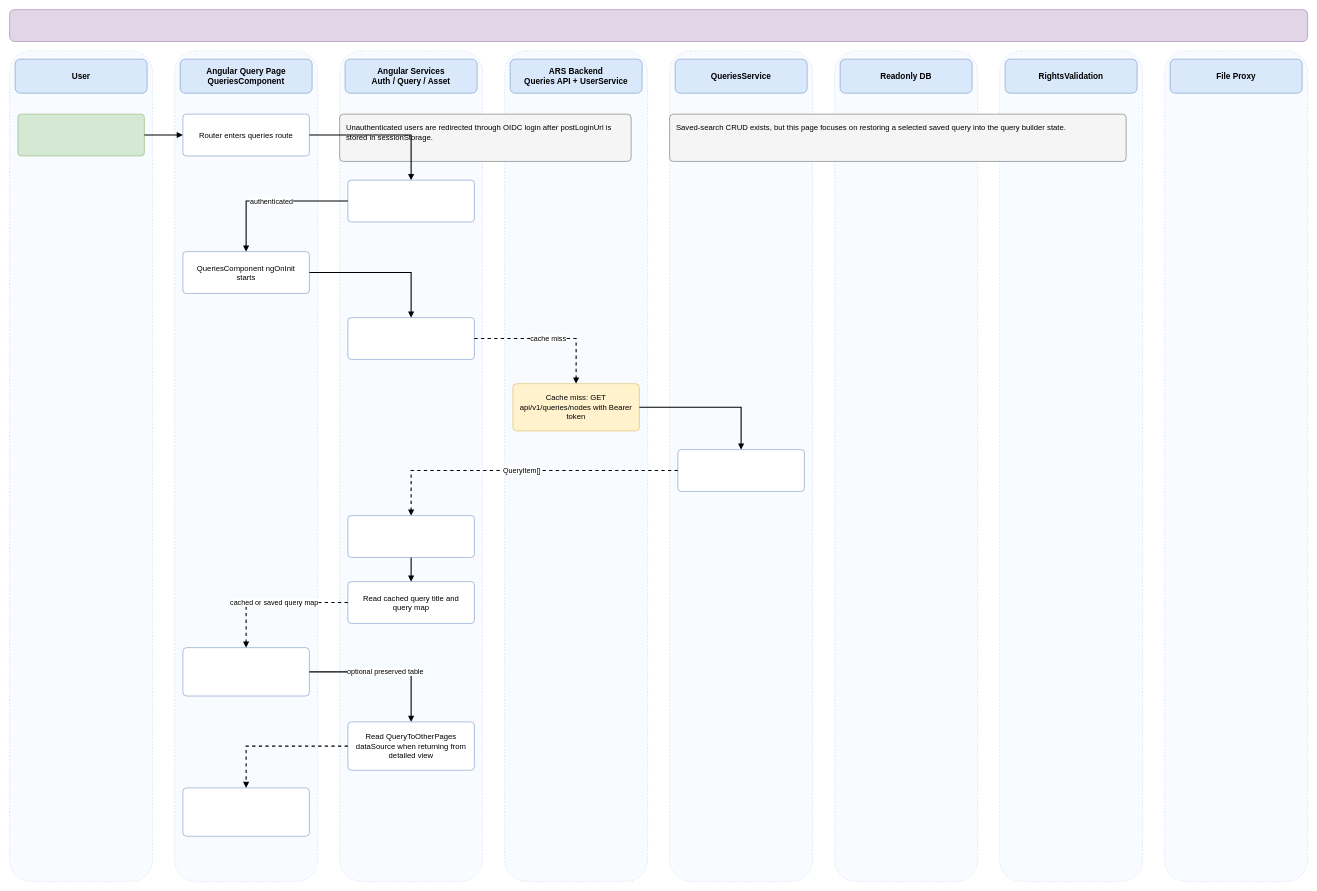
Image size: 1317x891. Some labels were removed from this diagram. Each missing label, with the centre of its shape:
"AuthenticatedGuard.canActivate() checks auth state" belongs at point 410,201.
"getNodeProperties() returns QueryItem[]" belongs at point 740,470.
"Load queryItems$ / nodes$ from CacheService first" belongs at point 410,338.
"Open /queries" belongs at point 80,135.
"Queries Page Flow - Page Init + Query State" belongs at point 658,25.
"Render saved/cached query state and preserved results" belongs at point 245,811.
"Restore query handlers with addSelectFromData() or create newSelect(undefined)" belongs at point 245,671.
"Store node metadata and query items in session cache" belongs at point 410,536.
